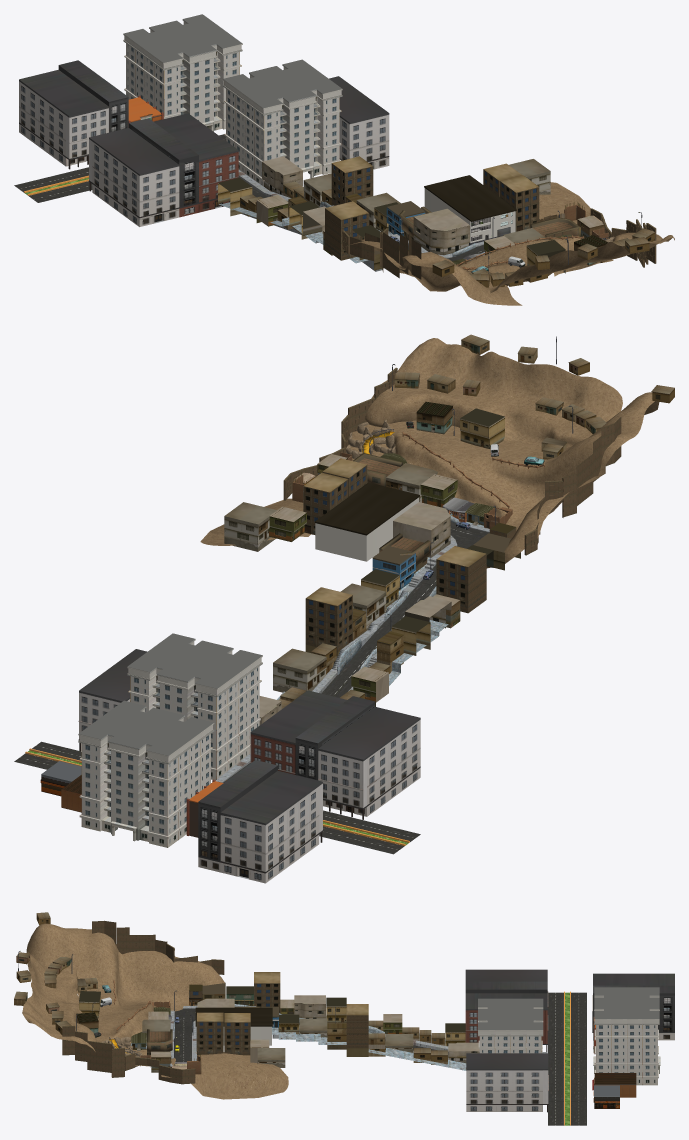
Rendered from city.glb.
3 renders of one model, top to bottom at view 1: azimuth 30°, elevation 25°; view 2: azimuth 150°, elevation 25°; view 3: azimuth 270°, elevation 25°, orthographic. The views are drawn at different scales.
Visible parts, largest first — view 1: supercondo.002, supercondo.001, Condo.002, Condo.006, Condo.007, Plane.058, Condo.009, Cube.059, Plane.059, pf.001, Plane.061, Plane.064 (+21 smaller); view 2: supercondo.001, Plane.059, Plane.058, Condo.002, supercondo.002, Condo.006, Condo.007, Cube.059, Plane.061, Plane.067, Plane.017, Plane.064 (+26 smaller); view 3: Plane.058, supercondo.001, Condo.009, Plane.017, supercondo.002, Plane.056, Plane.059, Plane.045, Condo.007, Condo.002, Plane.061, Plane.067 (+28 smaller).
Part boxes in pixels (x1,y1,x2,y2): supercondo.002: [223, 59, 342, 186]; supercondo.001: [123, 14, 242, 131]; Condo.002: [19, 60, 128, 169]; Condo.006: [89, 128, 179, 226]; Condo.007: [129, 113, 238, 217]; Plane.058: [350, 236, 613, 305]; Condo.009: [329, 76, 389, 169]; Cube.059: [424, 175, 516, 221]; Plane.059: [461, 232, 674, 293]; pf.001: [413, 208, 469, 255]; Plane.061: [342, 228, 421, 279]; Plane.064: [325, 201, 369, 260]; supercondo.001: [78, 700, 214, 847]; Plane.059: [365, 338, 622, 448]; Plane.058: [388, 392, 659, 568]; Condo.002: [198, 760, 323, 883]; supercondo.002: [127, 633, 262, 779]; Condo.006: [318, 707, 420, 819]; Condo.007: [250, 690, 375, 780]; Cube.059: [315, 482, 419, 535]; Plane.061: [524, 417, 621, 555]; Plane.067: [305, 587, 352, 656]; Plane.017: [14, 741, 420, 854]; Plane.064: [436, 546, 486, 613]; Plane.058: [26, 923, 224, 1042]; supercondo.001: [593, 987, 660, 1085]; Condo.009: [466, 1053, 548, 1112]; Plane.017: [548, 992, 586, 1125]; supercondo.002: [478, 998, 543, 1053]; Plane.056: [191, 1052, 288, 1099]; Plane.059: [22, 952, 96, 1051]; Plane.045: [62, 1025, 195, 1084]; Condo.007: [465, 981, 548, 1051]; Condo.002: [592, 973, 674, 1040]; Plane.061: [92, 920, 224, 974]; Plane.067: [346, 1004, 368, 1056].
Size of the model in its own units: 147 by 63.29 by 284.
Materials: 28 (25 with a texture image).
